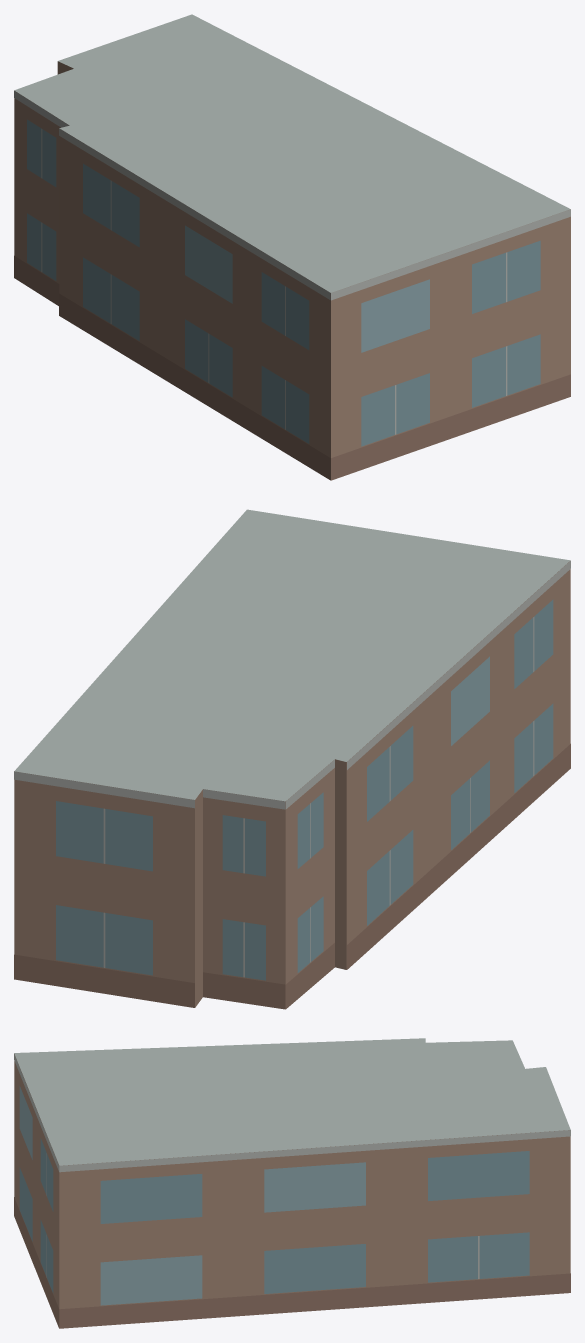
The model's file is survey-upis-32614364.glb.
The picture shows the model from 3 angles, top to bottom: view 1: azimuth 30°, elevation 25°; view 2: azimuth 150°, elevation 25°; view 3: azimuth 270°, elevation 25°; orthographic projection. The views are drawn at different scales.
Parts seen in each view (by area): view 1: survey-upis-32614364.tmp; view 2: survey-upis-32614364.tmp; view 3: survey-upis-32614364.tmp.
Part boxes in pixels (x1=…): survey-upis-32614364.tmp: x1=14, y1=14, x2=570, y2=480; survey-upis-32614364.tmp: x1=14, y1=509, x2=570, y2=1009; survey-upis-32614364.tmp: x1=14, y1=1038, x2=570, y2=1328.
Size of the model in its own units: 10.25 by 6.1 by 18.9.
